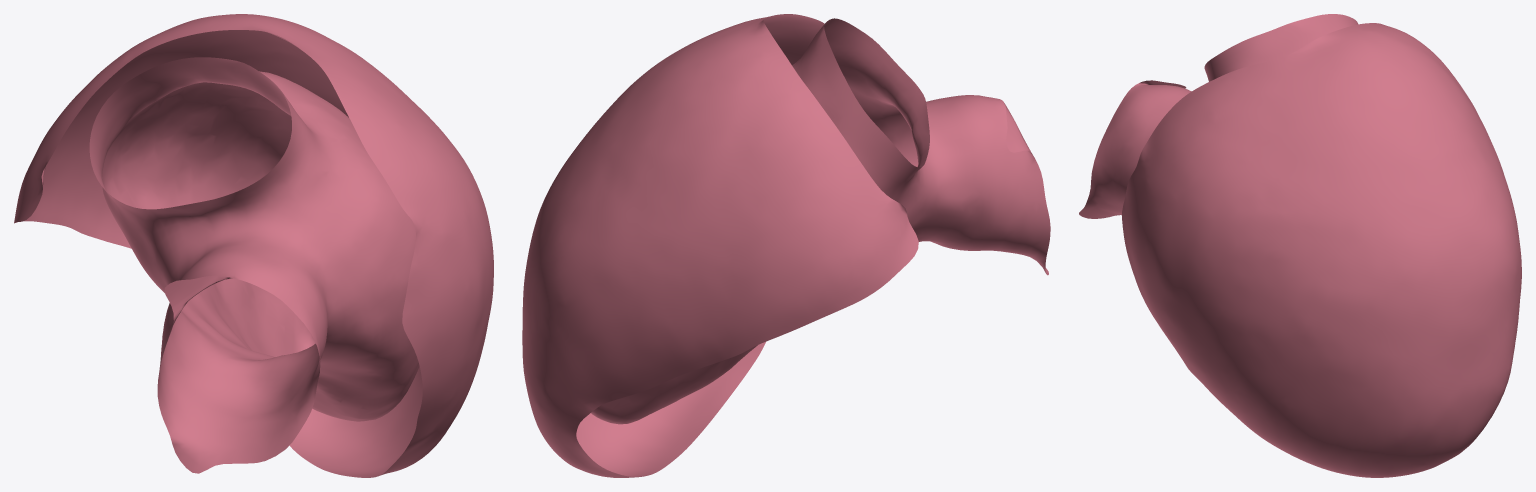
The picture shows the model from 3 angles, left to right: view 1: azimuth 30°, elevation 25°; view 2: azimuth 150°, elevation 25°; view 3: azimuth 270°, elevation 25°; orthographic projection. The views are drawn at different scales.
Parts seen in each view (by area): view 1: 左心室; view 2: 左心室; view 3: 左心室.
Boxes of the visible parts, x1,y1,x2,y2 form: 左心室: (14,14,493,477); 左心室: (522,14,1050,477); 左心室: (1079,14,1521,477).
Size of the model in its own units: 0.1177 by 0.1288 by 0.132.
